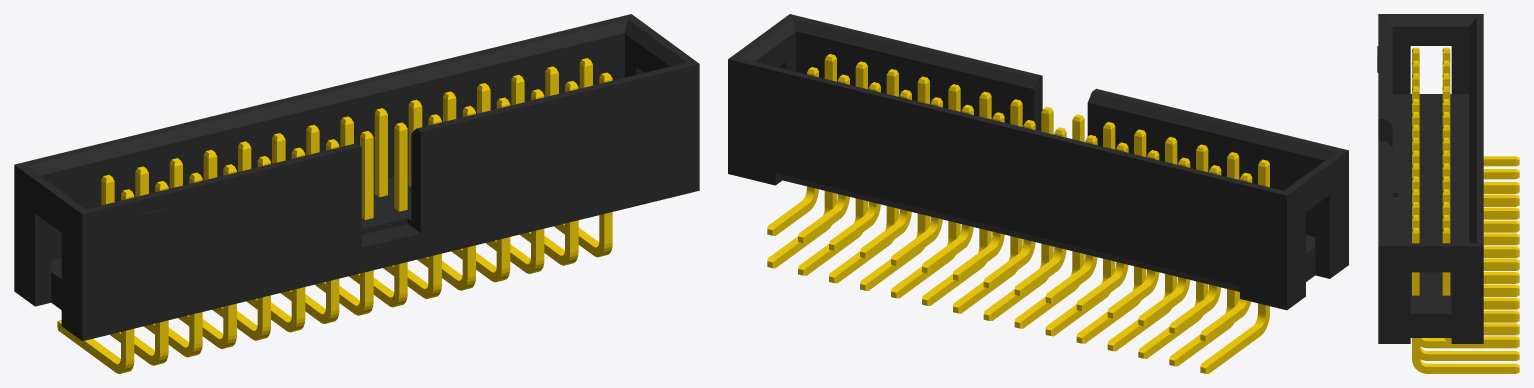
Rendered from DS1013-30R (IDC-30R CONNFLY).obj.
3 views of the same model, side by side, from view 1: azimuth 30°, elevation 25°; view 2: azimuth 150°, elevation 25°; view 3: azimuth 270°, elevation 25° (orthographic). The views are drawn at different scales.
Parts seen in each view (by area): view 1: DS1013-30R_(IDC-30R_CONNFLY); view 2: DS1013-30R_(IDC-30R_CONNFLY); view 3: DS1013-30R_(IDC-30R_CONNFLY).
Boxes of the visible parts, left/top/right/bottom form: DS1013-30R_(IDC-30R_CONNFLY): left=14, top=14, right=699, bottom=373; DS1013-30R_(IDC-30R_CONNFLY): left=728, top=14, right=1348, bottom=373; DS1013-30R_(IDC-30R_CONNFLY): left=1377, top=14, right=1519, bottom=373.
Bounding box in the file's own units: 0.0113 × 0.00344 × 0.00292.
